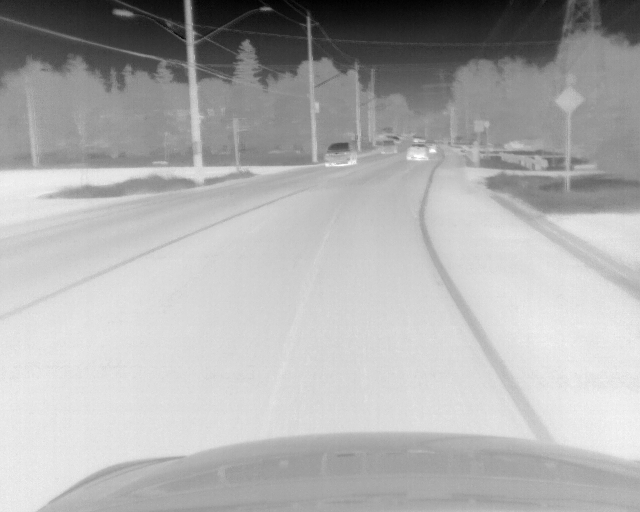car: (324, 142, 357, 167), (406, 144, 427, 161), (380, 139, 397, 155), (426, 142, 436, 153), (412, 136, 425, 144)
